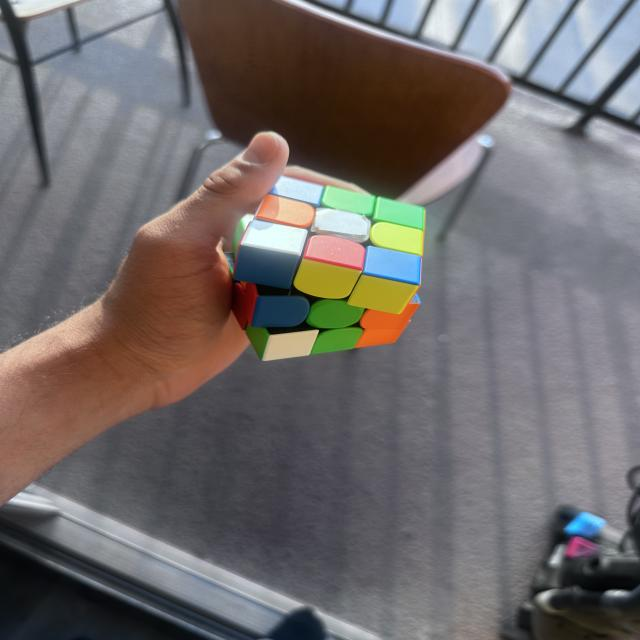sticker: (234, 221, 308, 290), (348, 247, 422, 314), (293, 258, 362, 301), (247, 323, 321, 361), (238, 219, 310, 257), (360, 245, 421, 288), (300, 234, 366, 271), (257, 193, 316, 229), (248, 295, 310, 329), (358, 298, 419, 332), (368, 221, 422, 257), (305, 298, 365, 330), (372, 196, 425, 231), (321, 185, 375, 217), (271, 176, 324, 207), (308, 327, 364, 356), (230, 279, 258, 331), (354, 324, 411, 349), (246, 325, 271, 359)
